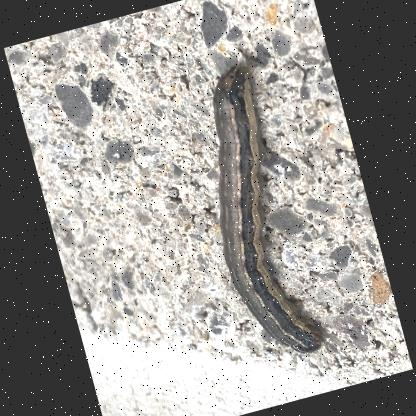Fall Armyworm Larvae: (171, 54, 334, 373)
